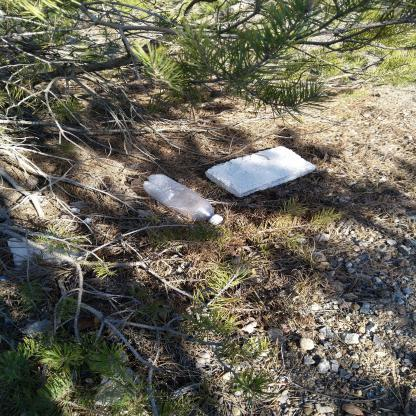kopuk: (207, 147, 317, 199)
plastik: (144, 175, 225, 227)
